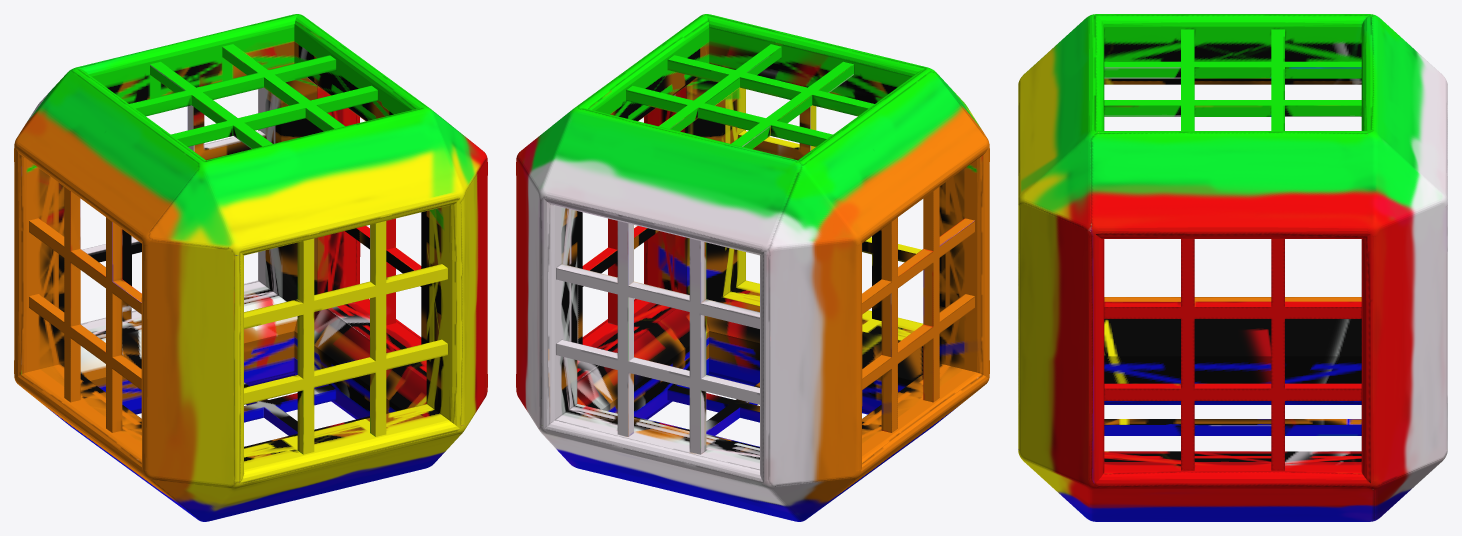
File: BombCube-colored.fbx
3 renders of one model, left to right at view 1: azimuth 30°, elevation 25°; view 2: azimuth 150°, elevation 25°; view 3: azimuth 270°, elevation 25°, orthographic. The views are drawn at different scales.
Parts seen in each view (by area): view 1: BombCube-small; view 2: BombCube-small; view 3: BombCube-small.
Boxes of the visible parts, x1,y1,x2,y2 form: BombCube-small: (14,14,487,521); BombCube-small: (516,14,989,521); BombCube-small: (1018,14,1447,521).
Bounding box in the file's own units: 1.05 × 1.05 × 1.05.
